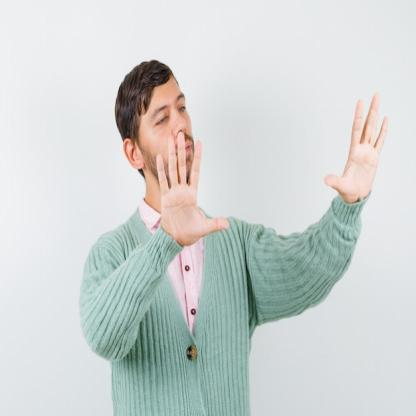stop: (154, 128, 232, 244), (322, 92, 390, 209)
